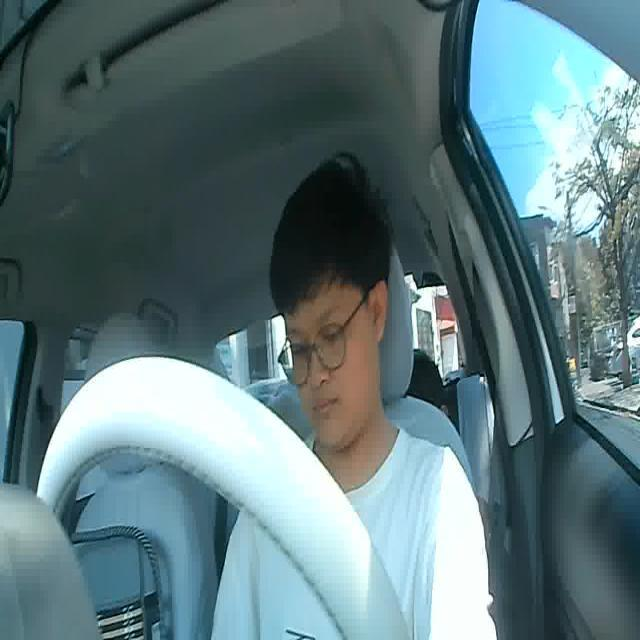Eye-Close: (320, 324, 346, 348), (290, 338, 316, 362)
Inattentive: (269, 160, 393, 454)
Normal: (311, 394, 337, 418)
